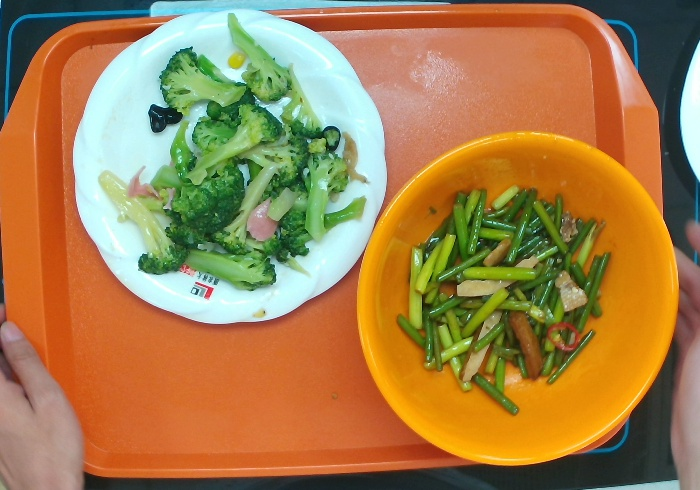ZNLD-Hua_Bian_Wan: (68, 7, 386, 331)
ZNLD-Ju_Se_Tang_Wan: (358, 127, 682, 465)
